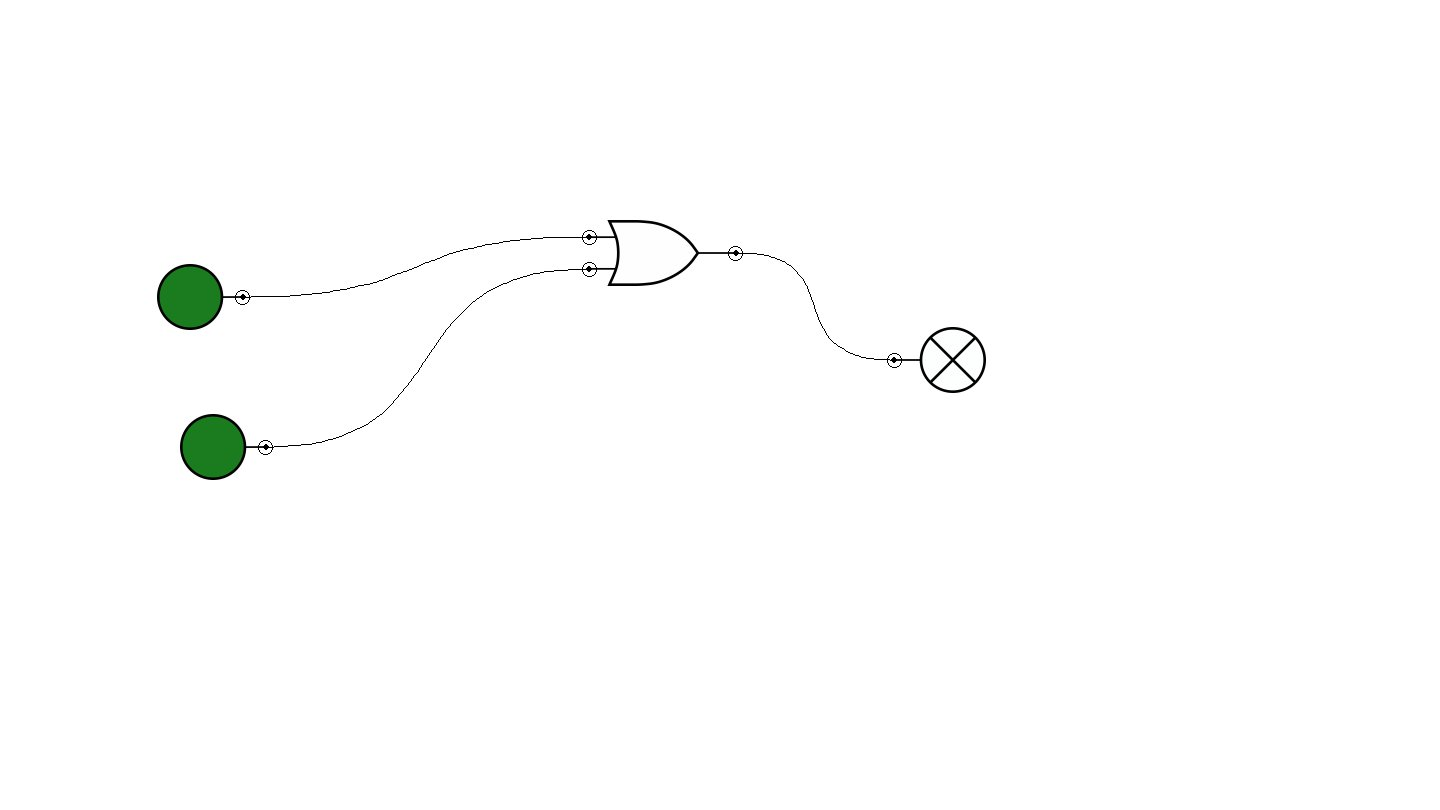bulb: (887, 327, 986, 393)
or: (582, 220, 743, 286)
switch_True: (157, 264, 250, 330), (180, 414, 273, 480)
